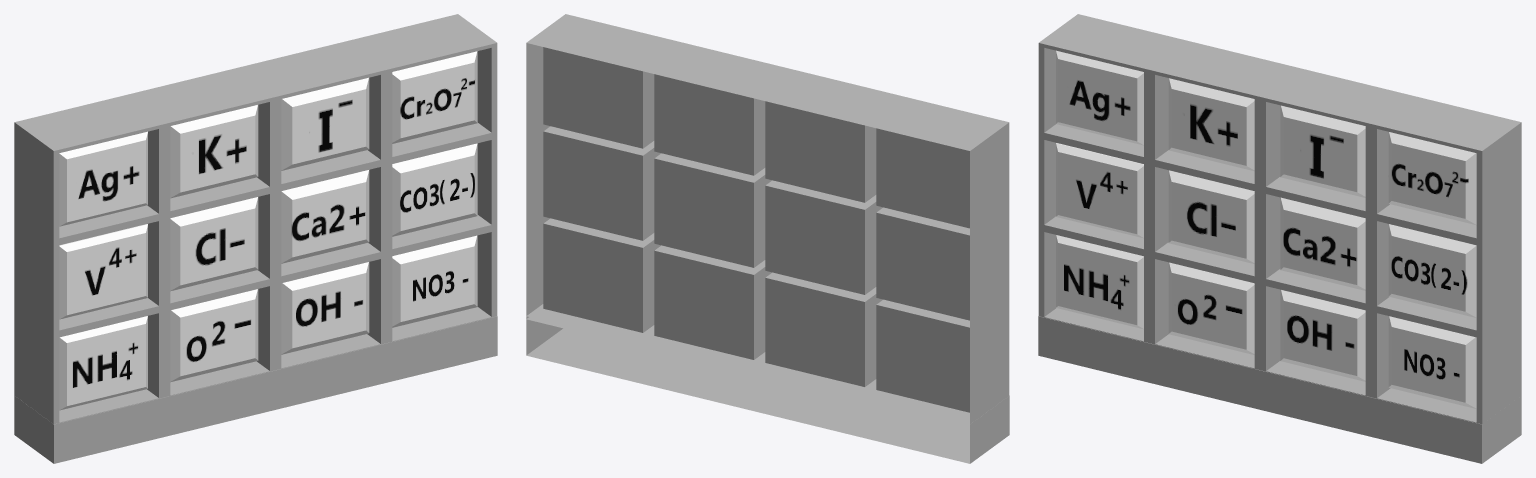
Rendered from Level 6 AM.fbx.
3 renders of one model, left to right at view 1: azimuth 30°, elevation 25°; view 2: azimuth 150°, elevation 25°; view 3: azimuth 330°, elevation 25°, orthographic.
Parts seen in each view (by area): view 1: rack, Vanadium_cation, Silver_cation, Ammonium_poly, Chlorine_anion, Calcium_cation, Pottasium_cation, Iodide_anion, Oxide_anion, Hydroxide_poly, Carbonate_poly, Dichromate_anion (+1 smaller); view 2: rack; view 3: rack, Vanadium_cation, Carbonate_poly, Silver_cation, Ammonium_poly, Dichromate_anion, Nirate_poly, Chlorine_anion, Pottasium_cation, Oxide_anion, Calcium_cation, Iodide_anion (+1 smaller).
Boxes of the visible parts, x1,y1,x2,y2 form: rack: (14, 14, 497, 463); Vanadium_cation: (59, 224, 147, 319); Silver_cation: (59, 131, 147, 226); Ammonium_poly: (59, 316, 147, 410); Chlorine_anion: (170, 197, 258, 291); Calcium_cation: (281, 170, 369, 263); Pottasium_cation: (170, 105, 258, 198); Iodide_anion: (281, 77, 369, 170); Oxide_anion: (170, 289, 258, 382); Hydroxide_poly: (281, 262, 369, 354); Carbonate_poly: (392, 143, 477, 236); Dichromate_anion: (392, 51, 477, 143); rack: (526, 14, 1009, 463); rack: (1038, 14, 1521, 463); Vanadium_cation: (1056, 143, 1143, 238); Carbonate_poly: (1388, 224, 1476, 317); Silver_cation: (1056, 50, 1143, 145); Ammonium_poly: (1056, 235, 1143, 329); Dichromate_anion: (1388, 132, 1476, 225); Nirate_poly: (1388, 316, 1476, 408); Chlorine_anion: (1168, 170, 1254, 263); Pottasium_cation: (1168, 78, 1254, 171); Oxide_anion: (1168, 262, 1254, 354); Calcium_cation: (1280, 197, 1365, 290); Iodide_anion: (1280, 105, 1365, 197).
Bounding box in the file's own units: 589 × 397 × 91.15.
Materials: 2 (1 with a texture image).
